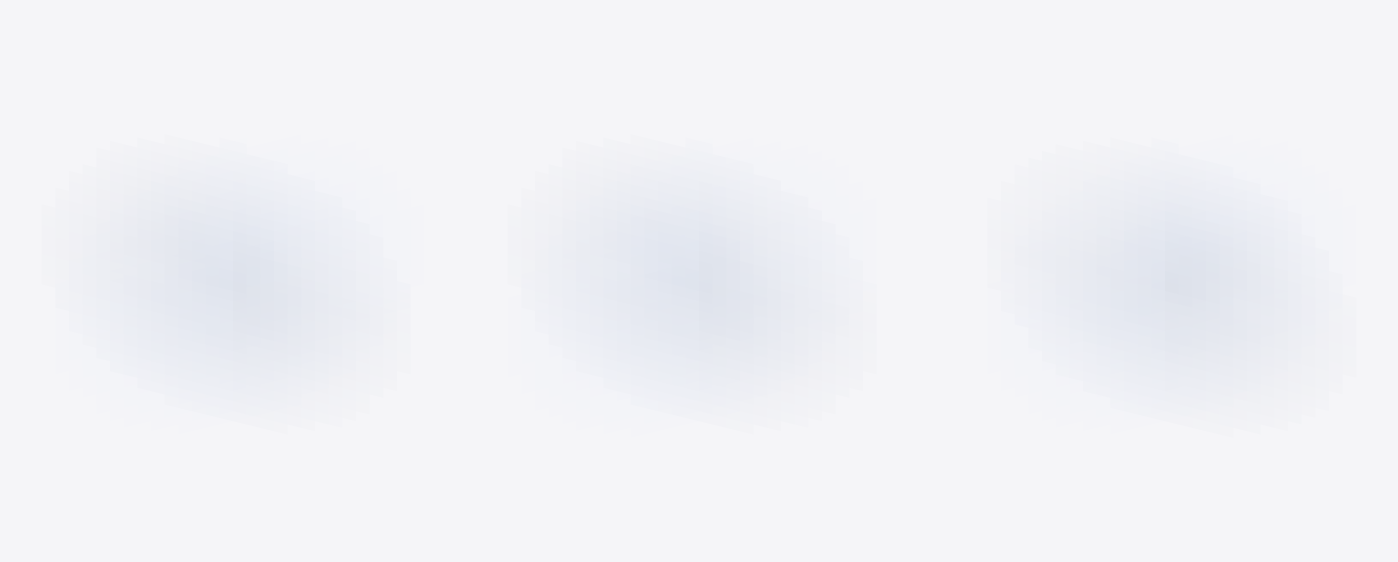
The model's file is fog_puff.glb.
3 renders of one model, left to right at view 1: azimuth 30°, elevation 25°; view 2: azimuth 150°, elevation 25°; view 3: azimuth 270°, elevation 25°, orthographic.
Parts seen in each view (by area): view 1: fog_puff; view 2: fog_puff; view 3: fog_puff.
Part boxes in pixels (x1,y1,x2,y2): fog_puff: (96, 171, 369, 400); fog_puff: (549, 171, 834, 400); fog_puff: (1029, 171, 1314, 400).
Size of the model in its own units: 1 by 0.7 by 0.866.
1 material, 1 textured.
